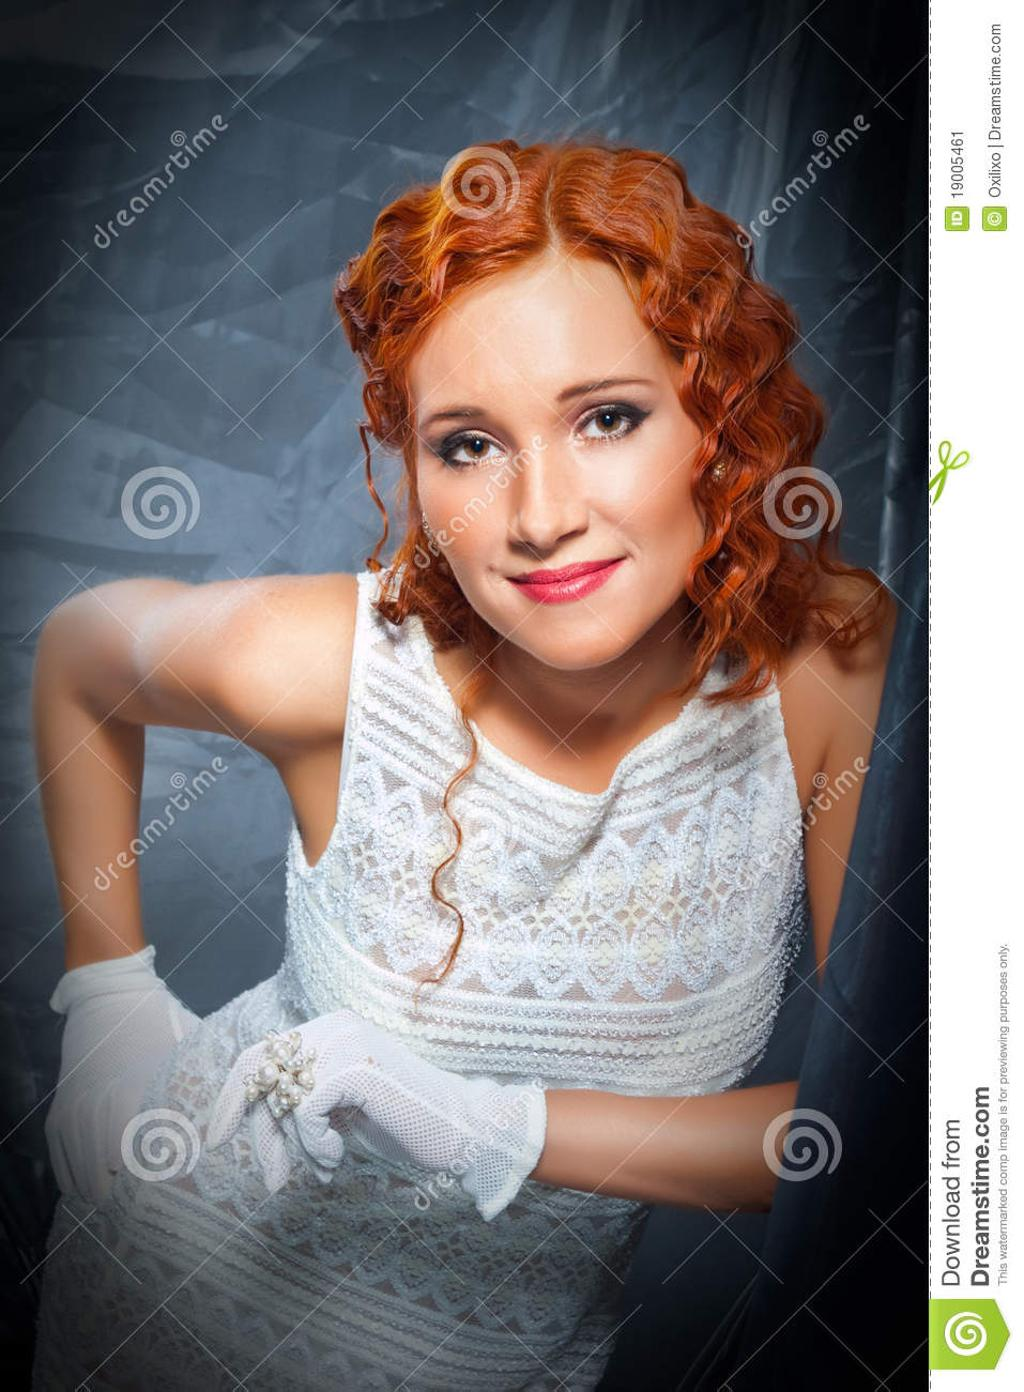face: (410, 250, 709, 671)
